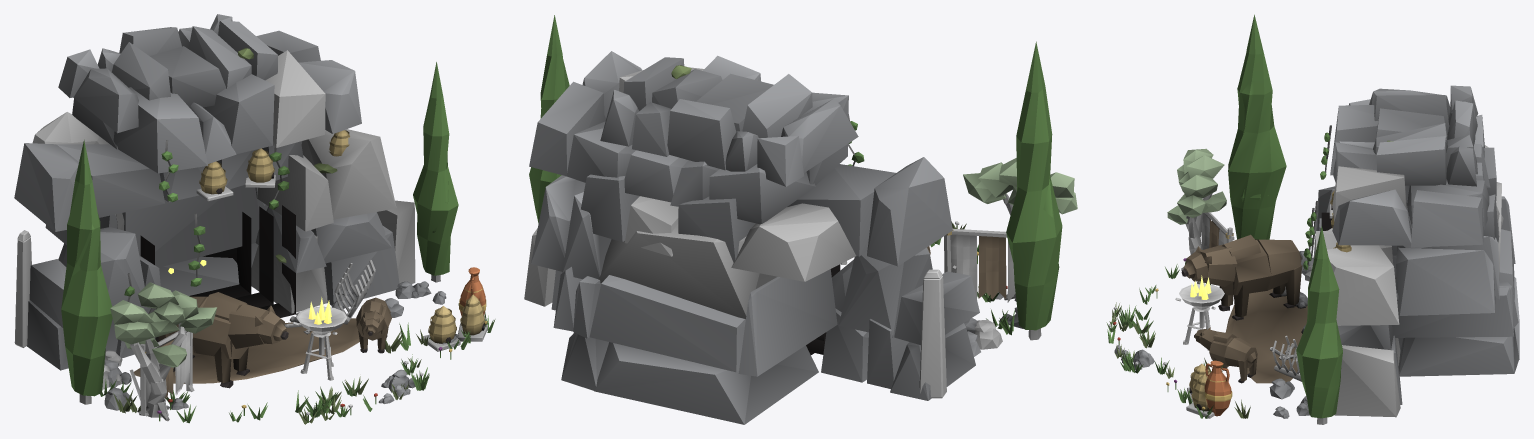
The model's file is bear-cave-l2.glb.
3 views of the same model, side by side, from view 1: azimuth 30°, elevation 25°; view 2: azimuth 150°, elevation 25°; view 3: azimuth 270°, elevation 25° (orthographic). The views are drawn at different scales.
Visible parts, largest first — view 1: bear-cave-l2; view 2: bear-cave-l2; view 3: bear-cave-l2.
Boxes of the visible parts, bbox=[...] form: bear-cave-l2: bbox=[14, 14, 495, 424]; bear-cave-l2: bbox=[524, 15, 1077, 424]; bear-cave-l2: bbox=[1106, 14, 1519, 424].
Size of the model in its own units: 1.71 by 1.02 by 1.58.
